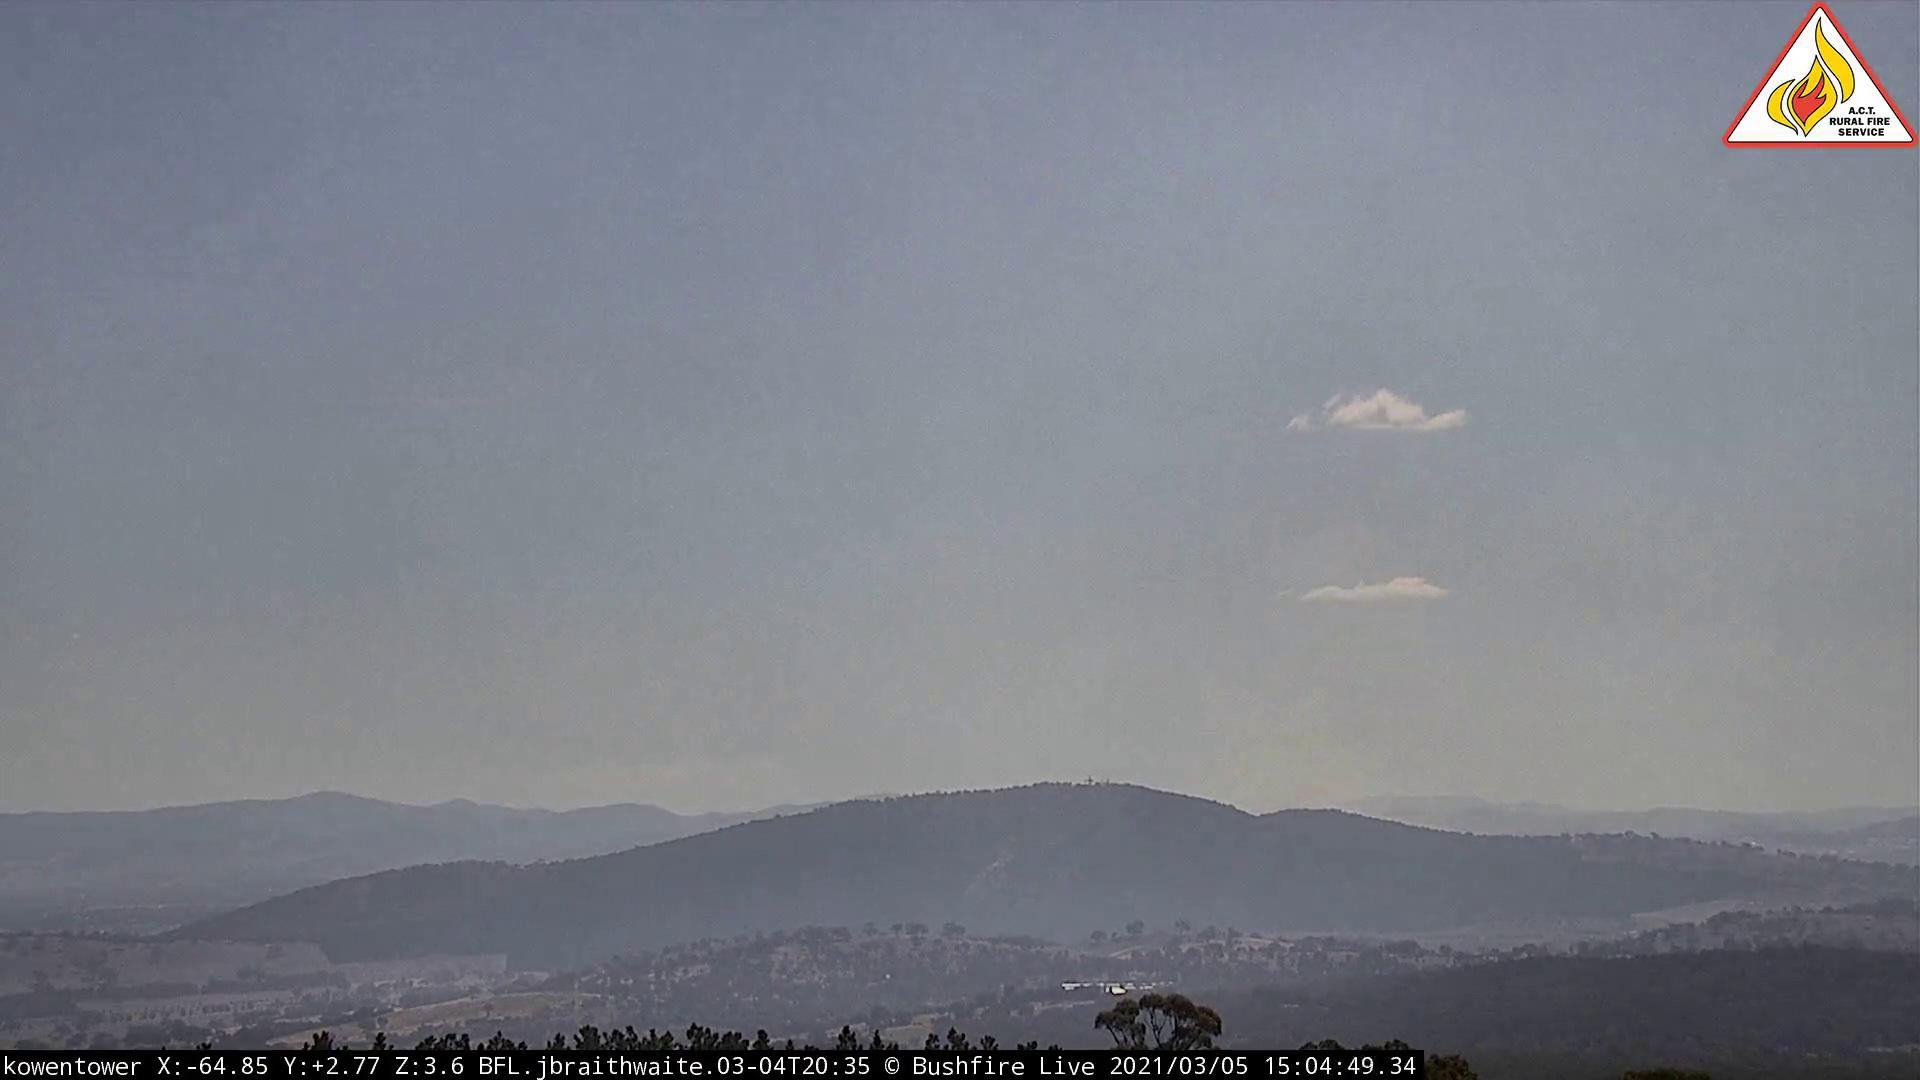Smoke: (1222, 530, 1774, 861)
